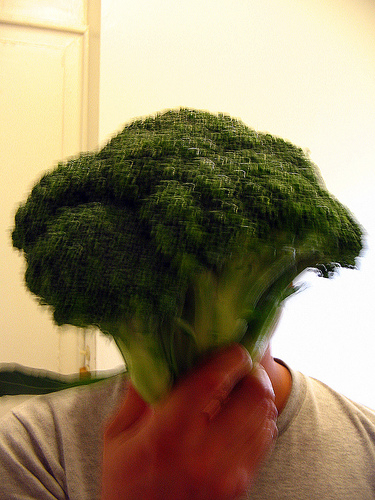broccoli: (10, 110, 366, 410)
